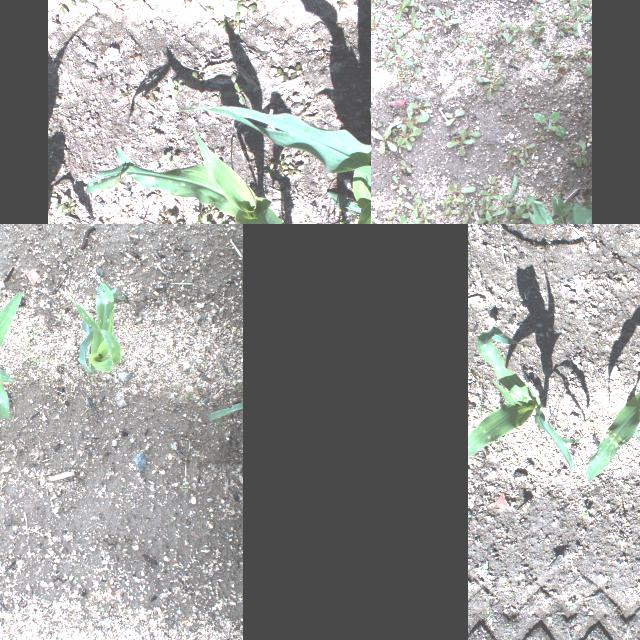crop: (175, 104, 371, 224), (85, 126, 299, 224), (468, 328, 570, 472), (54, 281, 126, 373), (584, 365, 640, 480), (0, 284, 24, 422), (208, 403, 242, 425), (568, 204, 591, 224)
weed: (552, 195, 585, 224), (534, 110, 568, 138), (19, 344, 53, 368), (446, 128, 474, 154), (222, 81, 254, 102), (396, 122, 420, 150), (371, 129, 397, 154), (186, 204, 216, 224), (432, 8, 462, 28), (482, 74, 506, 98), (564, 8, 592, 28), (473, 207, 505, 224), (47, 192, 67, 218), (392, 42, 412, 68), (407, 106, 429, 128), (575, 139, 591, 167), (507, 205, 529, 224), (477, 46, 493, 72), (448, 182, 474, 198), (371, 10, 385, 39), (482, 192, 496, 220), (393, 0, 411, 21), (188, 72, 206, 92), (508, 145, 526, 165), (409, 9, 421, 39), (404, 197, 422, 217), (332, 212, 360, 224), (449, 34, 467, 52), (526, 26, 544, 44), (415, 207, 434, 224), (542, 48, 558, 68), (54, 0, 76, 14), (443, 110, 465, 124), (161, 150, 181, 164), (170, 78, 184, 98), (501, 148, 515, 168), (518, 195, 534, 212), (232, 11, 244, 33), (329, 92, 349, 105), (289, 62, 305, 78), (376, 50, 392, 66), (419, 31, 431, 51), (28, 320, 40, 340), (273, 66, 289, 80), (118, 86, 134, 100), (518, 142, 534, 156), (392, 176, 406, 192), (392, 195, 402, 217), (480, 189, 502, 199), (500, 194, 510, 216), (507, 23, 519, 41), (287, 162, 303, 175), (220, 14, 232, 31), (165, 213, 183, 224), (371, 121, 382, 139), (442, 194, 464, 203), (316, 49, 332, 61), (146, 83, 158, 99), (313, 35, 329, 47), (512, 45, 528, 57), (407, 100, 431, 108), (396, 160, 412, 172), (394, 214, 413, 224), (120, 205, 134, 218), (496, 20, 506, 38), (143, 74, 159, 85), (276, 158, 288, 172), (128, 52, 142, 64), (463, 206, 473, 222), (532, 4, 542, 20), (569, 0, 589, 8), (207, 217, 229, 224), (64, 204, 76, 216), (335, 0, 347, 12), (96, 0, 120, 6), (203, 4, 215, 16), (483, 176, 495, 188), (178, 0, 191, 11), (294, 151, 308, 161), (550, 58, 564, 68), (406, 188, 416, 202), (264, 156, 274, 168), (238, 4, 258, 10), (128, 0, 143, 8), (112, 2, 124, 12), (550, 10, 560, 22), (388, 26, 398, 38), (352, 0, 368, 7), (556, 22, 564, 36), (412, 0, 423, 10), (299, 99, 309, 109), (95, 198, 105, 208), (576, 106, 586, 116), (486, 29, 496, 39), (580, 509, 592, 517), (526, 22, 536, 31), (95, 216, 106, 224), (585, 62, 591, 76), (438, 210, 459, 214), (154, 216, 164, 224), (229, 72, 239, 80), (384, 213, 391, 224), (158, 209, 170, 215), (565, 603, 577, 609), (494, 217, 504, 224), (284, 97, 294, 103), (98, 602, 104, 612), (583, 51, 591, 58), (472, 84, 476, 98), (211, 212, 219, 218), (527, 0, 545, 2), (72, 576, 78, 582), (84, 302, 90, 308), (472, 158, 476, 164), (182, 484, 186, 490), (18, 480, 24, 484)
